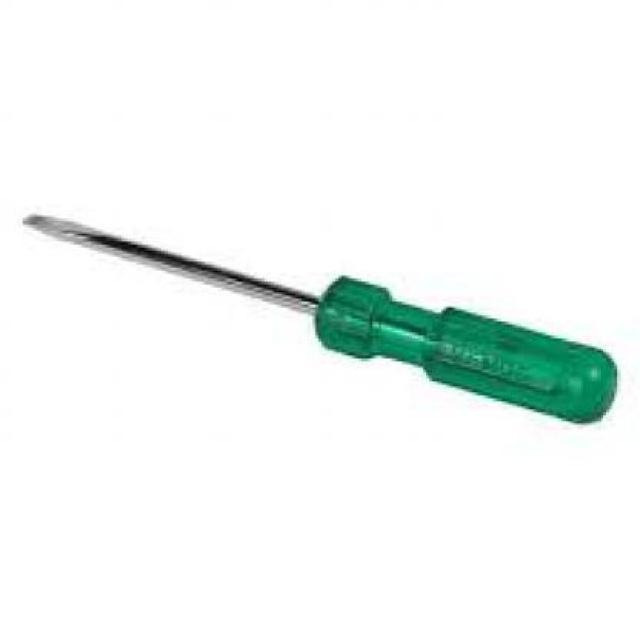screwdriver: (20, 210, 623, 430)
